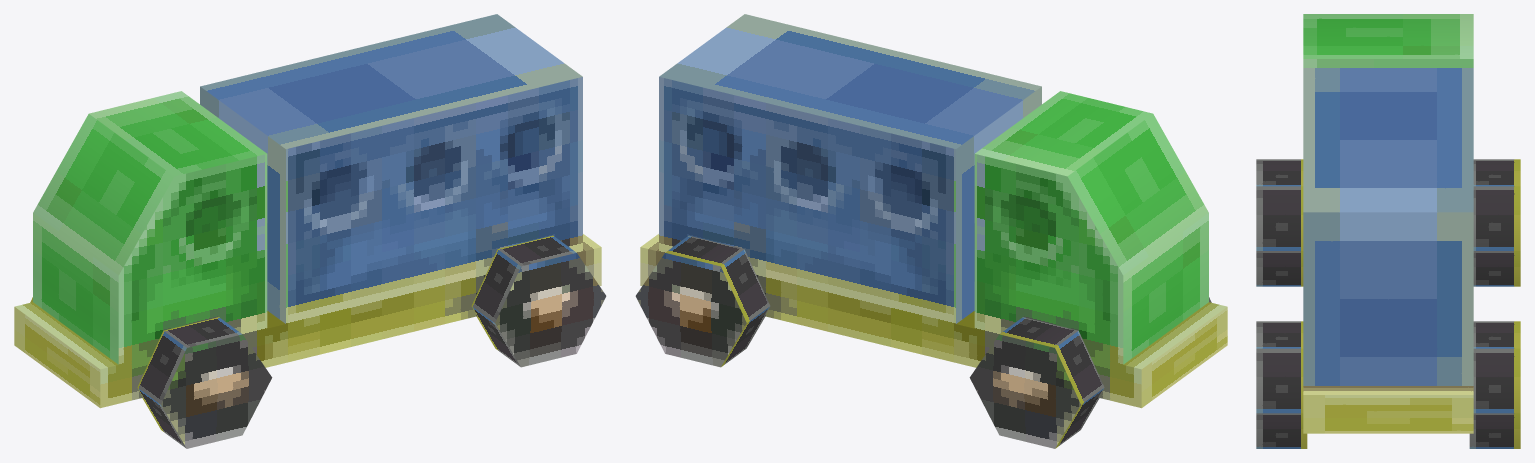
Rendered from tola25.glb.
3 views of the same model, side by side, from view 1: azimuth 30°, elevation 25°; view 2: azimuth 150°, elevation 25°; view 3: azimuth 270°, elevation 25° (orthographic).
Parts seen in each view (by area): view 1: tola25; view 2: tola25; view 3: tola25.
Part boxes in pixels (x1,y1,x2,y2): tola25: [14, 14, 606, 448]; tola25: [635, 14, 1227, 448]; tola25: [1256, 14, 1520, 448].
Bounding box in the file's own units: 135 × 65 × 62.
1 material, 1 textured.
